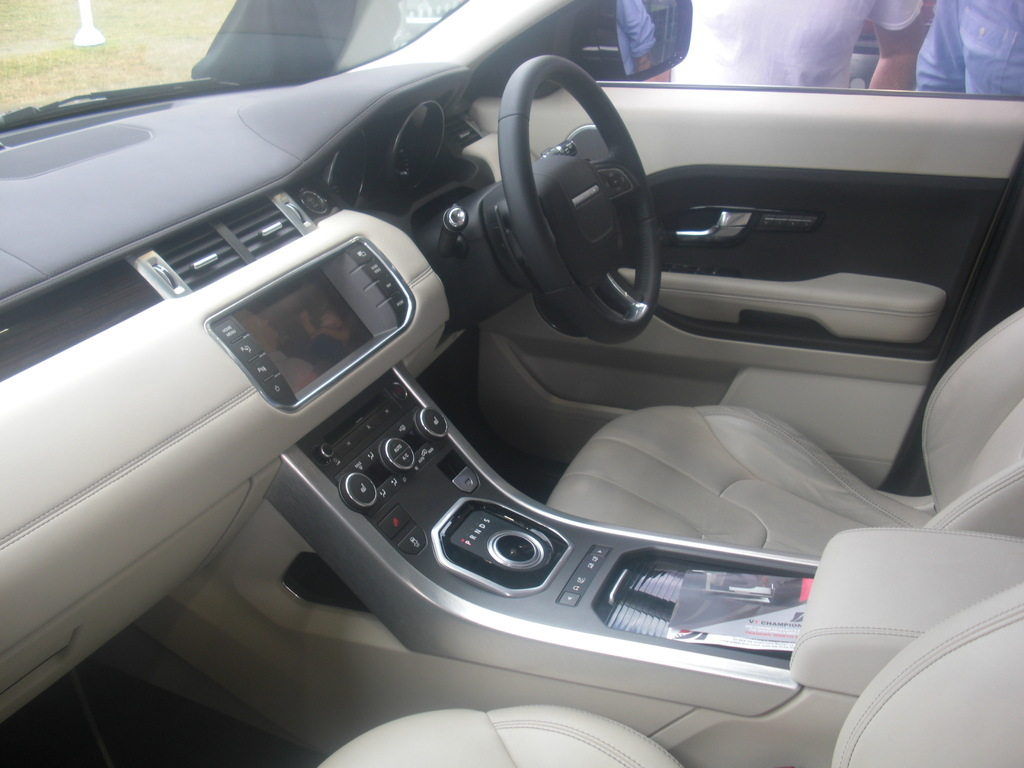person: (295, 299, 352, 363)
